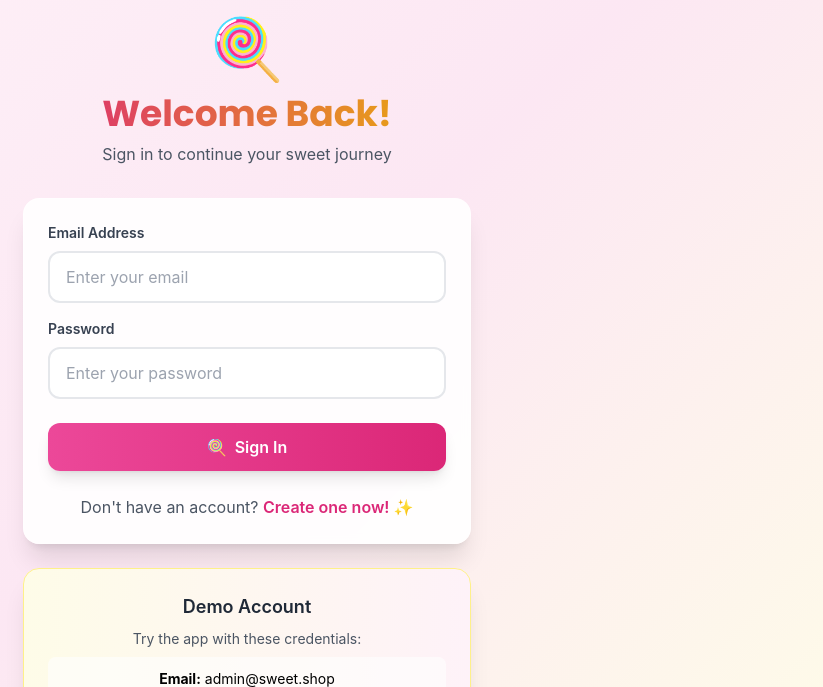
Scenario: LoginPage › shows validation errors for empty fields
Click the button "🍭 Sign In" at {"x": 247, "y": 447}, box [48,423,446,471]
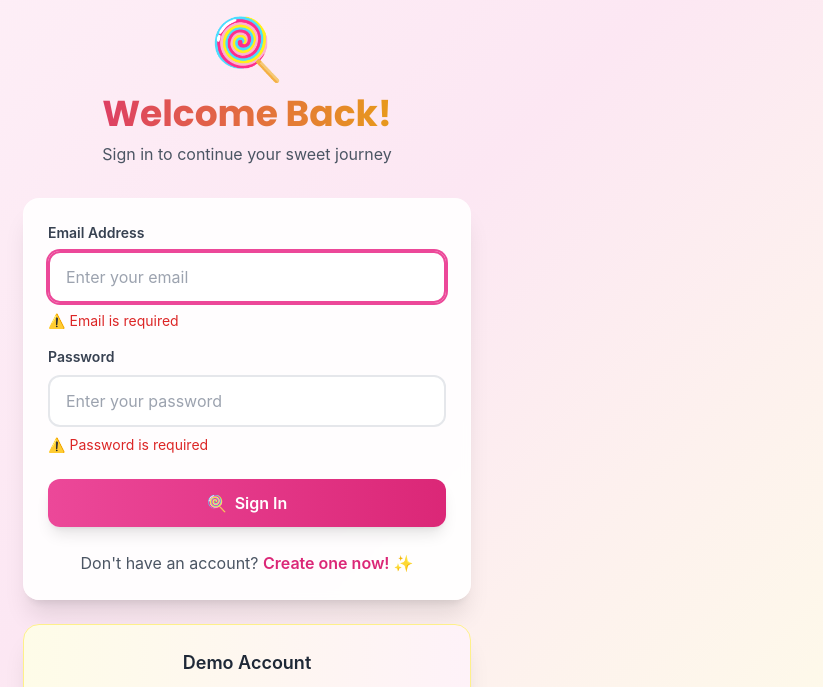
Check: the text "Email is required" is shown, box [70,312,179,329]
Check: the text "Password is required" is shown, box [70,436,208,453]
